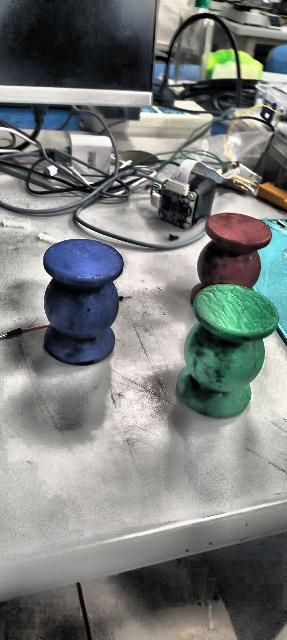blue: (42, 238, 124, 366)
green: (182, 290, 276, 422)
red: (198, 210, 270, 288)
